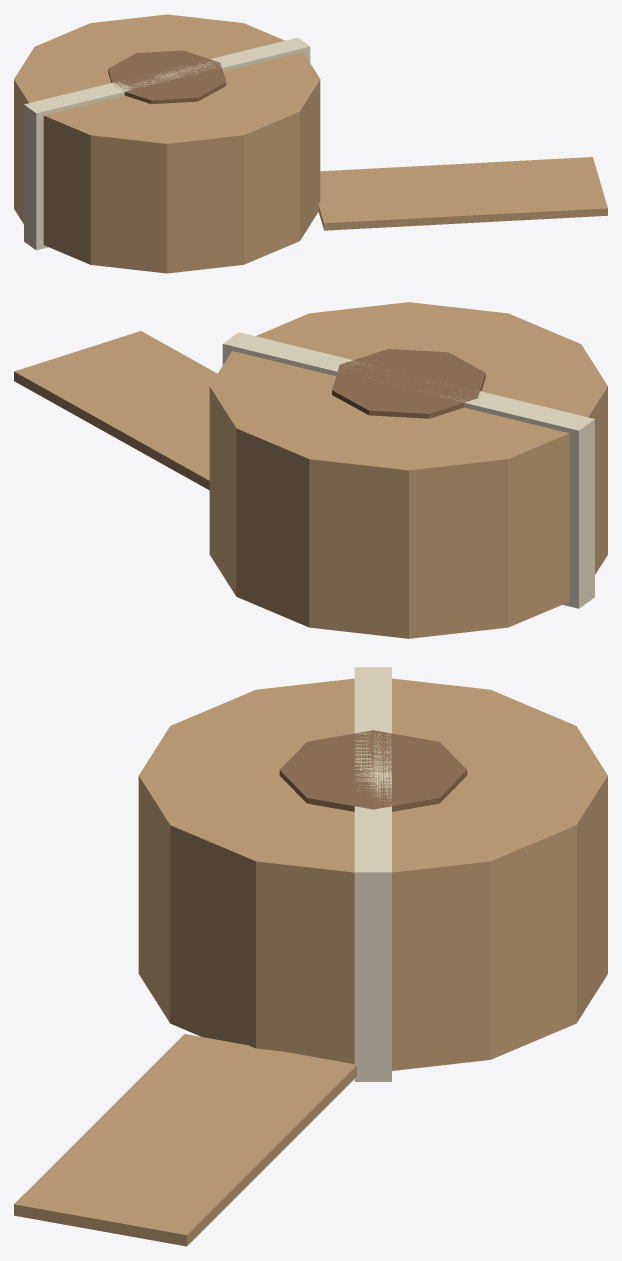
The model's file is prop-girth-strap-roll.fbx.
The picture shows the model from 3 angles, top to bottom: view 1: azimuth 30°, elevation 25°; view 2: azimuth 150°, elevation 25°; view 3: azimuth 270°, elevation 25°; orthographic projection. The views are drawn at different scales.
Parts seen in each view (by area): view 1: prop-girth-strap-roll; view 2: prop-girth-strap-roll; view 3: prop-girth-strap-roll.
Boxes of the visible parts, bbox=[...] form: prop-girth-strap-roll: bbox=[14, 14, 607, 273]; prop-girth-strap-roll: bbox=[14, 302, 607, 638]; prop-girth-strap-roll: bbox=[14, 667, 607, 1246].
Size of the model in its own units: 28.37 by 7.4 by 18.99.
